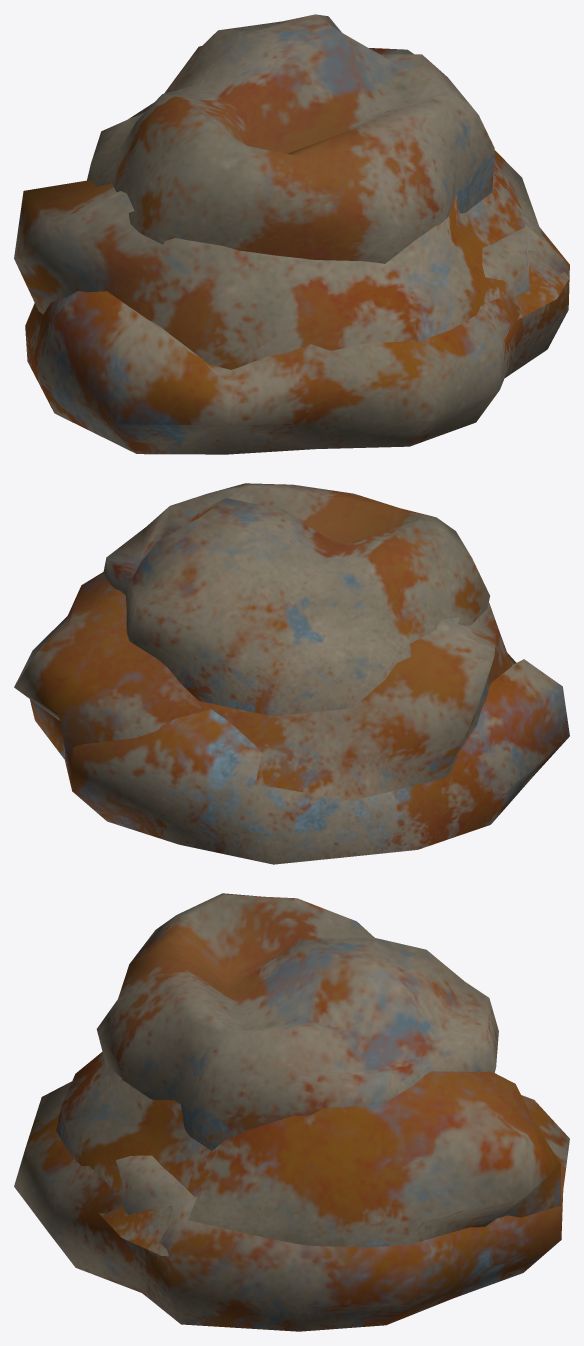
File: iron.fbx
The picture shows the model from 3 angles, top to bottom: view 1: azimuth 30°, elevation 25°; view 2: azimuth 150°, elevation 25°; view 3: azimuth 270°, elevation 25°; orthographic projection. The views are drawn at different scales.
Visible parts, largest first — view 1: iron high, iron low, iron middle; view 2: iron high, iron low, iron middle; view 3: iron high, iron middle, iron low.
Part boxes in pixels (left/top/right/bottom): iron high: left=87, top=14, right=494, bottom=263; iron low: left=25, top=224, right=569, bottom=454; iron middle: left=14, top=150, right=569, bottom=369; iron high: left=102, top=483, right=489, bottom=716; iron low: left=30, top=653, right=569, bottom=864; iron middle: left=14, top=572, right=511, bottom=800; iron high: left=96, top=893, right=498, bottom=1151; iron middle: left=56, top=1052, right=560, bottom=1256; iron low: left=14, top=1081, right=569, bottom=1331.
Size of the model in its own units: 269 by 161 by 268.
1 material, 1 textured.
